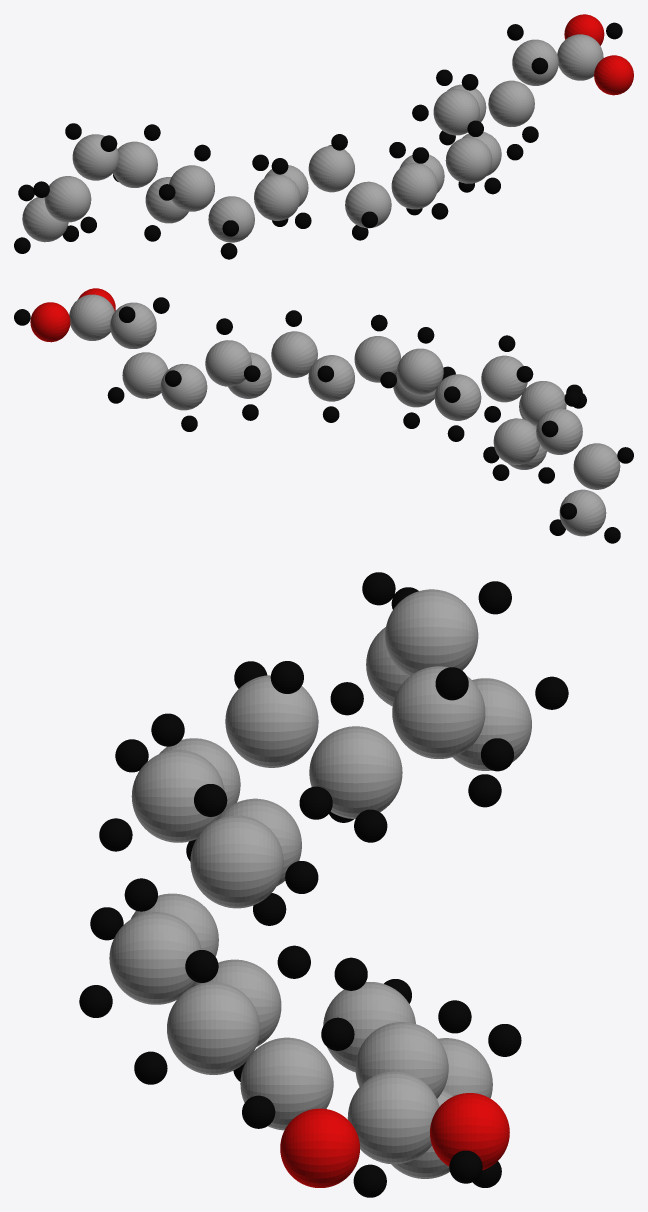
The model's file is Stearic Acid.glb.
3 renders of one model, top to bottom at view 1: azimuth 30°, elevation 25°; view 2: azimuth 150°, elevation 25°; view 3: azimuth 270°, elevation 25°, orthographic. The views are drawn at different scales.
Parts seen in each view (by area): view 1: world; view 2: world; view 3: world.
Boxes of the visible parts, left/top/right/bottom form: world: left=14, top=14, right=633, bottom=259; world: left=14, top=288, right=633, bottom=543; world: left=79, top=572, right=568, bottom=1197.
Bounding box in the file's own units: 20.97 × 4.15 × 7.35.
